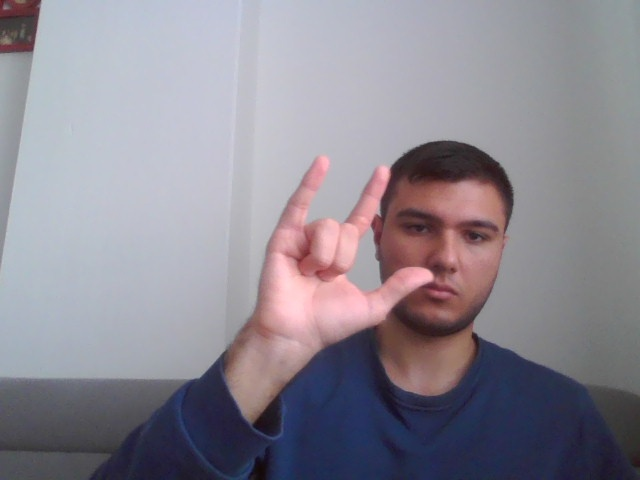ı love you: (255, 155, 435, 363)
